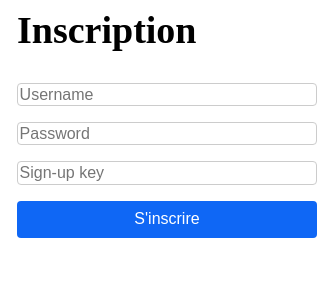
Scenario: Signup Component › handles successful signup
This screenshot has width=335, height=294.
Type "newuser" into the field with placeholder "Username" at (167, 95), box [17, 83, 317, 106]
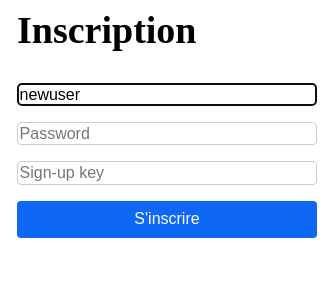
Type "password123" into the password field with placeholder "Password" at (167, 134), box [17, 122, 317, 146]
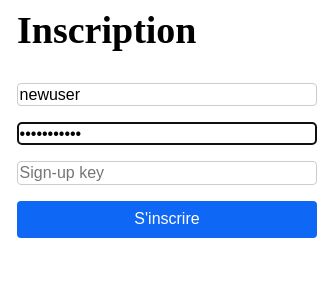
Type "valid-key" into the password field with placeholder "Sign-up key" at (167, 173), box [17, 161, 317, 185]
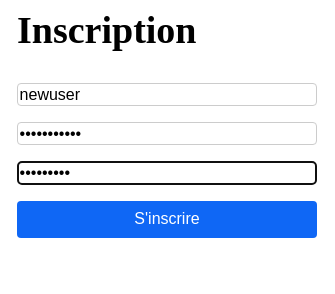
Click the button "S'inscrire" at (167, 219), box [17, 201, 317, 238]
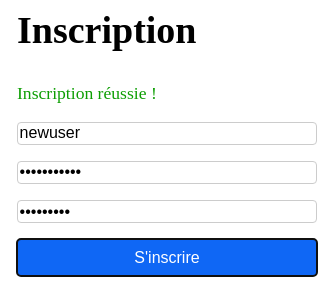
expect the text "Inscription réussie !" is shown: met, box [17, 83, 157, 103]
